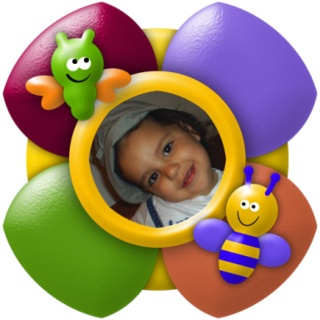without_mask: (118, 121, 206, 202)
